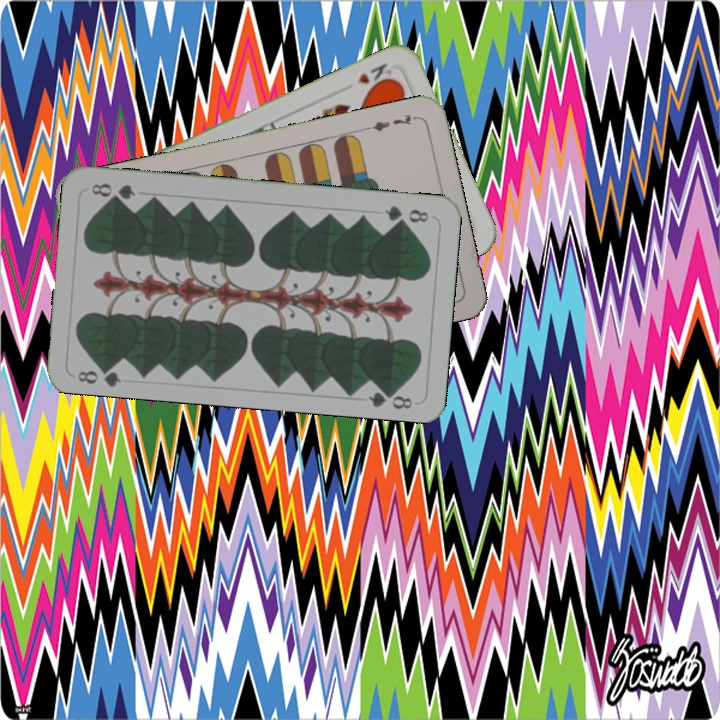E7: (361, 110, 420, 135)
G8: (74, 360, 124, 389), (381, 201, 432, 226)
HK: (353, 59, 396, 93)
